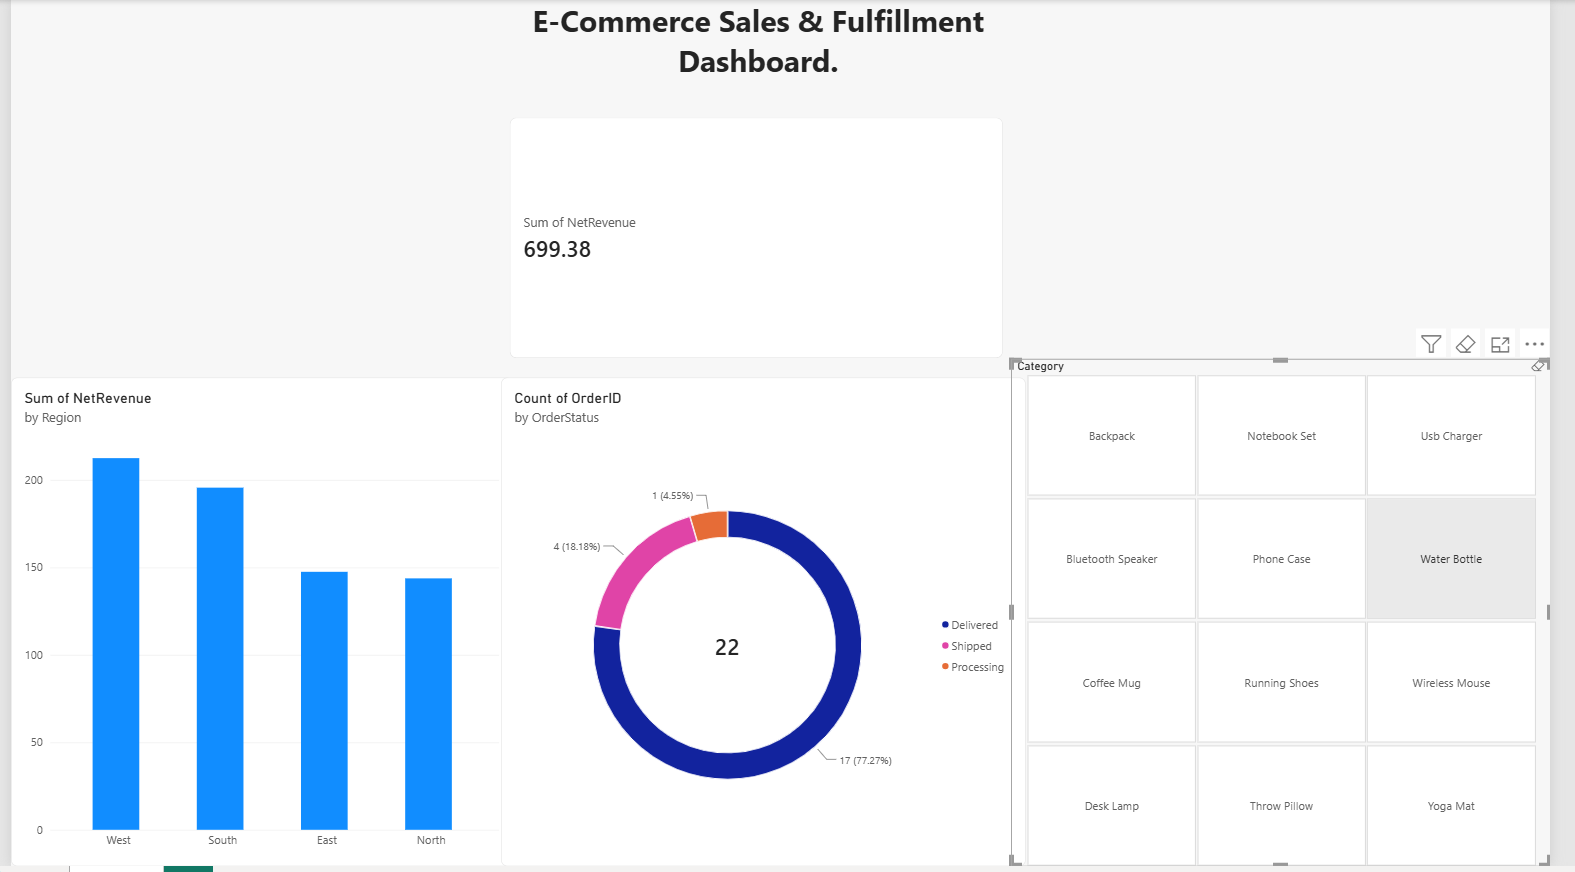

This screenshot's page, from the dashboard's own definition file:
{"tool":"powerbi","page":{"name":"Page 1","canvas":[1920,1080],"ordinal":0},"visuals":[{"type":"lineClusteredColumnComboChart","fields":{"Category":["ecommerce_sales_cleaned.Region"],"Y":["Sum(ecommerce_sales_cleaned.NetRevenue)"]},"box":[0,471.4,625.7,609.3],"z":0},{"type":"slicer","fields":{"Values":["ecommerce_sales_cleaned.Category"]},"box":[1247.1,447.4,673.1,634],"z":1},{"type":"donutChart","fields":{"Category":["ecommerce_sales_cleaned.OrderStatus"],"Y":["CountNonNull(ecommerce_sales_cleaned.OrderID)"]},"box":[611.3,471.4,654.5,609.3],"z":2},{"type":"cardVisual","fields":{"Data":["Sum(ecommerce_sales_cleaned.NetRevenue)"]},"box":[621.6,146.1,615.4,300.5],"z":3},{"type":"textbox","box":[10,634,626,446],"z":4},{"type":"textbox","box":[615,0,632,471],"z":6},{"type":"textbox","box":[100,100,300,300],"z":7}]}

Visuals, with their boxes on the page's 1920x1080 design canvas (x1, y1, x2, y2). These are canvas units, not pixel positions in the 1575x872 screenshot, which may show the page scaled, cropped or inside an application window:
lineClusteredColumnComboChart - ecommerce_sales_cleaned.Region x Sum(ecommerce_sales_cleaned.NetRevenue): 0 471 626 1081
slicer - ecommerce_sales_cleaned.Category: 1247 447 1920 1081
donutChart - ecommerce_sales_cleaned.OrderStatus x CountNonNull(ecommerce_sales_cleaned.OrderID): 611 471 1266 1081
cardVisual - Sum(ecommerce_sales_cleaned.NetRevenue): 622 146 1237 447
textbox: 10 634 636 1080
textbox: 615 0 1247 471
textbox: 100 100 400 400
